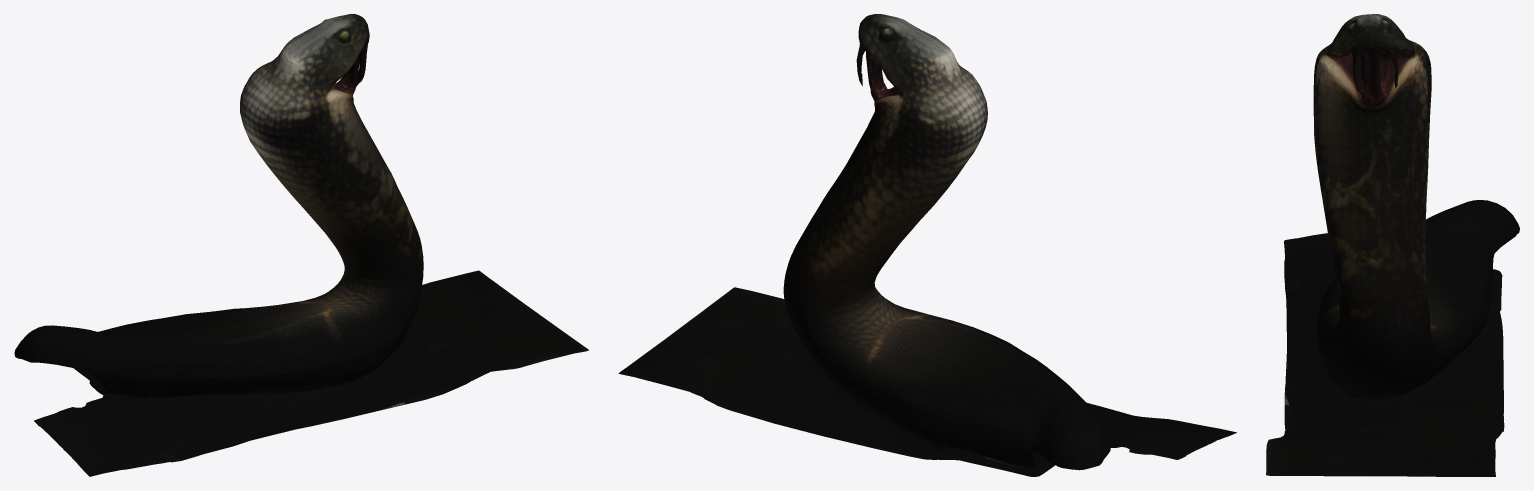
File: ukud-cobra.glb
The picture shows the model from 3 angles, left to right: view 1: azimuth 30°, elevation 25°; view 2: azimuth 150°, elevation 25°; view 3: azimuth 270°, elevation 25°; orthographic projection. The views are drawn at different scales.
Parts seen in each view (by area): view 1: world; view 2: world; view 3: world.
Boxes of the visible parts, x1,y1,x2,y2 form: world: (14,14,588,476); world: (618,14,1236,476); world: (1266,14,1519,476).
Bounding box in the file's own units: 1 × 0.7094 × 0.4324.
Materials: 1 (1 with a texture image).
